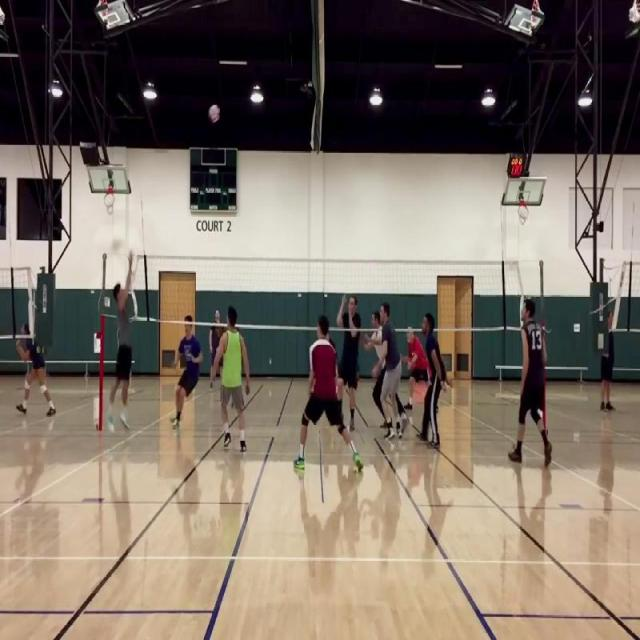volleyball: (209, 104, 220, 122)
